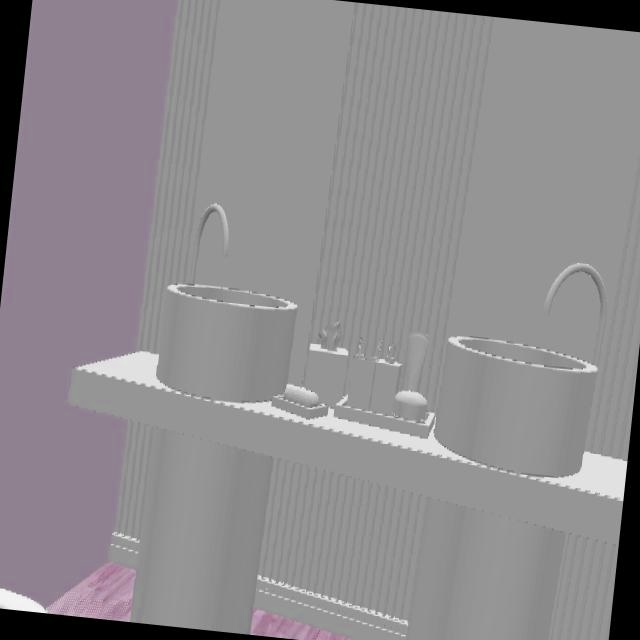washbasin: (432, 335, 592, 479), (155, 282, 297, 405)
